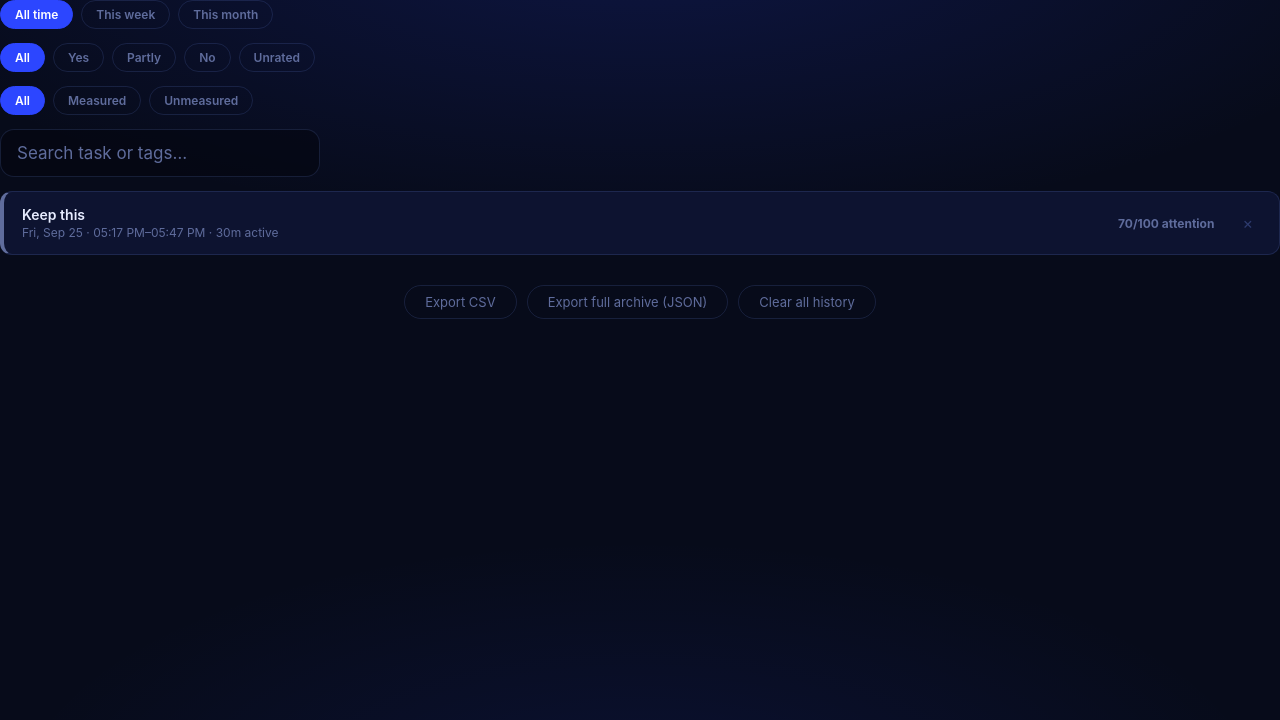
Test case: Sessions — destructive actions › requires explicit confirmation and preserves the item when deletion is cancelled
Click the button named "Delete Keep this".
click(1248, 223)  # box [1234,209,1261,237]
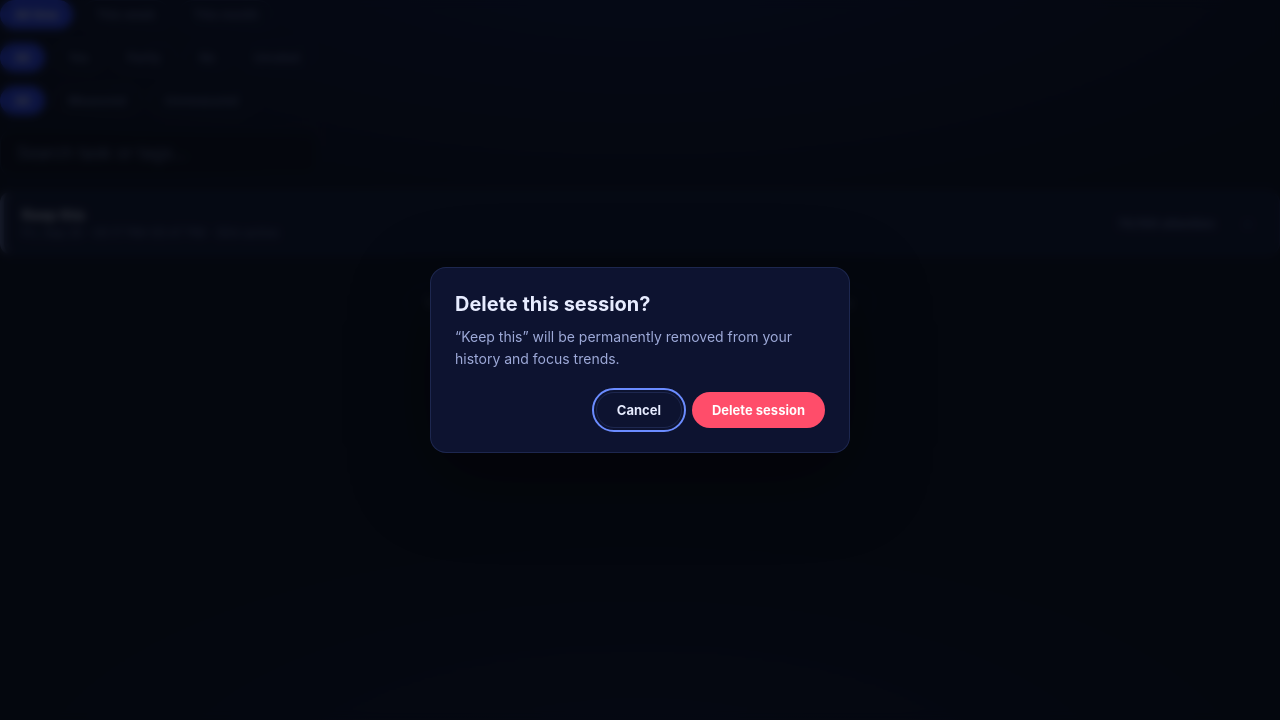
Expected: the dialog "Delete this session?" is shown, [430,267,850,453]
Click the button "Cancel".
click(639, 410)  # box [596,392,682,428]
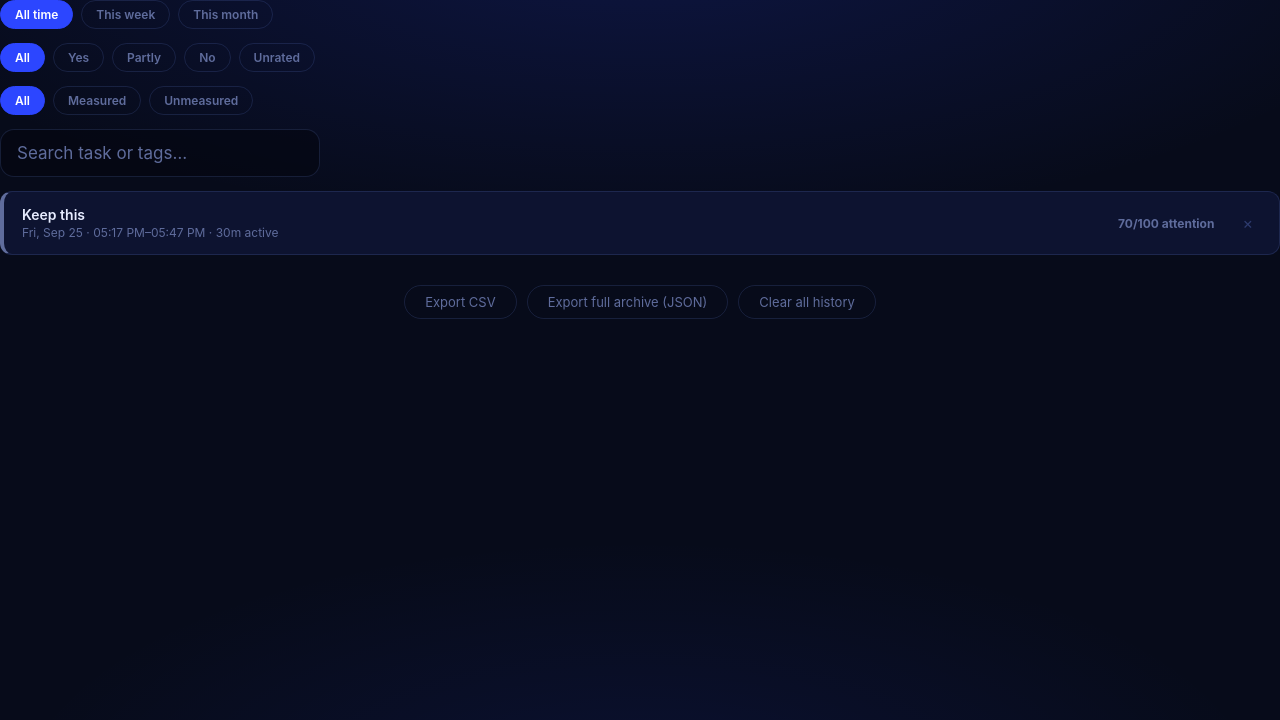
Expected: the text "Keep this" is shown, [22,206,85,223]
Expected: the dialog is gone
